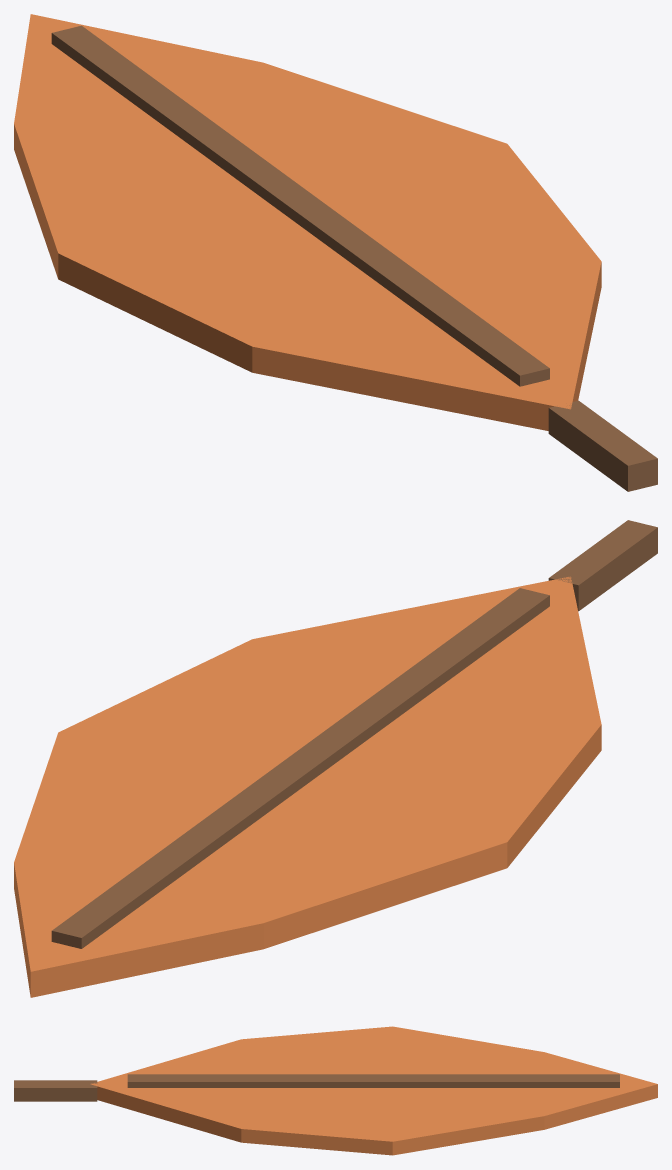
File: deco_leaf_orange.obj
3 renders of one model, top to bottom at view 1: azimuth 30°, elevation 25°; view 2: azimuth 150°, elevation 25°; view 3: azimuth 270°, elevation 25°, orthographic. The views are drawn at different scales.
Parts seen in each view (by area): view 1: deco_leaf_orange; view 2: deco_leaf_orange; view 3: deco_leaf_orange.
Boxes of the visible parts, bbox=[...] form: deco_leaf_orange: bbox=[14, 14, 657, 491]; deco_leaf_orange: bbox=[14, 520, 657, 997]; deco_leaf_orange: bbox=[14, 1026, 657, 1155].
Bounding box in the file's own units: 0.036 × 0.00285 × 0.085.
Materials: 1 (1 with a texture image).
